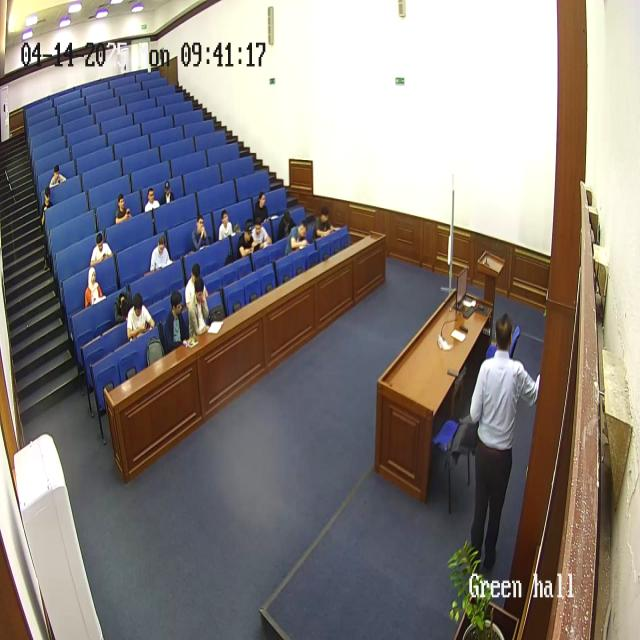person: (464, 315, 539, 568), (160, 289, 190, 353), (186, 278, 215, 339), (126, 292, 156, 342), (184, 263, 208, 318), (149, 233, 174, 273), (84, 266, 106, 308), (284, 221, 309, 255), (91, 232, 114, 267), (190, 213, 210, 251), (250, 218, 272, 252), (236, 222, 256, 259), (312, 206, 334, 239), (254, 191, 272, 225), (39, 187, 53, 229), (114, 192, 132, 224), (218, 210, 235, 241), (144, 184, 162, 212), (48, 164, 66, 190), (158, 180, 174, 207)
